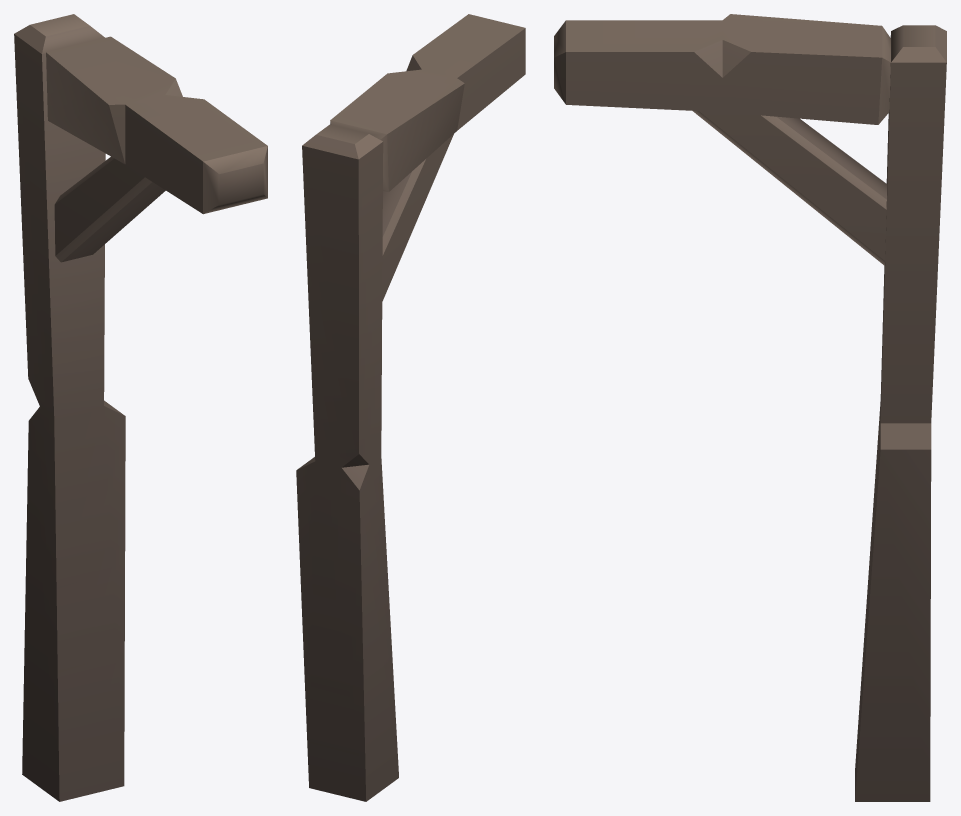
The model's file is post.obj.
The picture shows the model from 3 angles, left to right: view 1: azimuth 30°, elevation 25°; view 2: azimuth 150°, elevation 25°; view 3: azimuth 270°, elevation 25°; orthographic projection. The views are drawn at different scales.
Parts seen in each view (by area): view 1: post_Cube.001; view 2: post_Cube.001; view 3: post_Cube.001.
Part boxes in pixels (x1,y1,x2,y2): post_Cube.001: (14,14,267,801); post_Cube.001: (296,14,525,801); post_Cube.001: (554,14,946,801).
Bounding box in the file's own units: 0.4237 × 3.3 × 1.57.
Materials: 1 (1 with a texture image).
